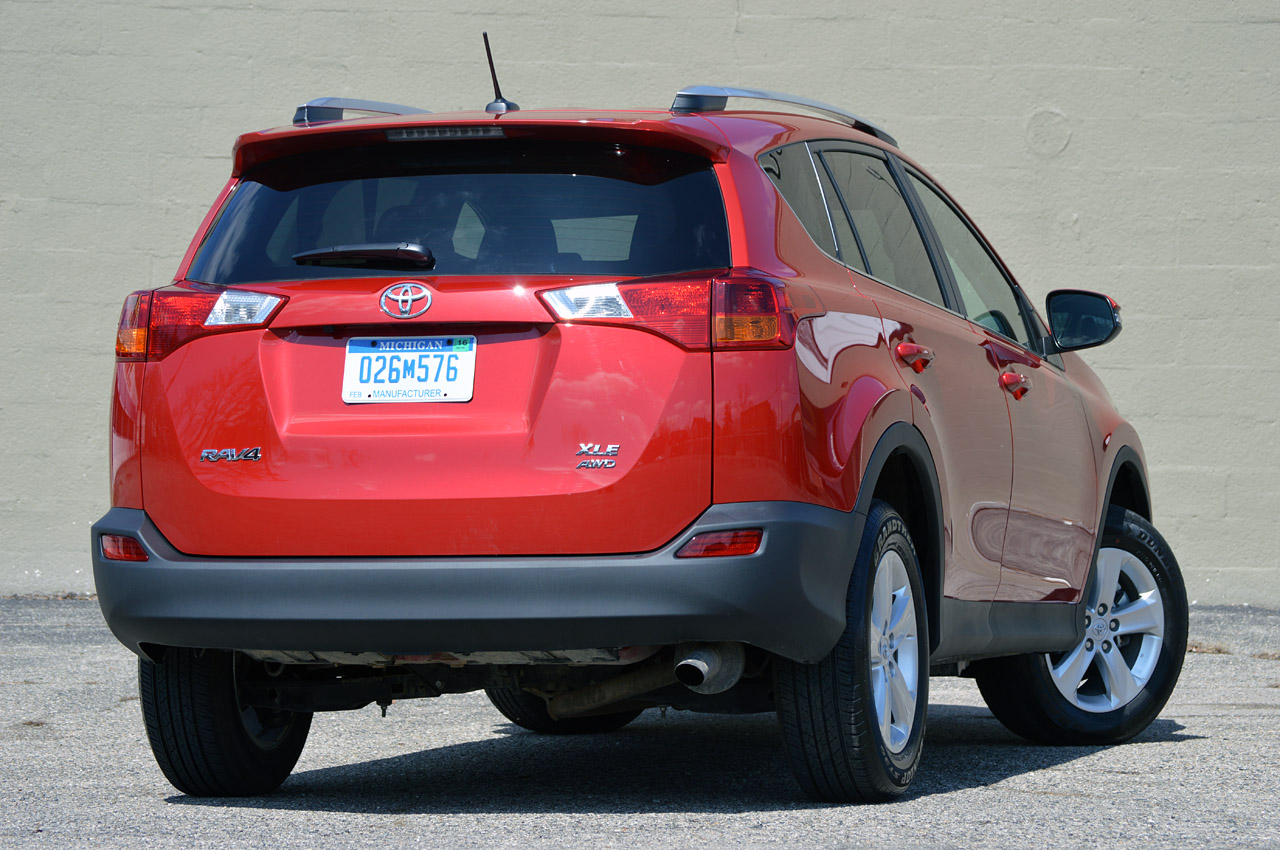Toyota RAV-4: (87, 95, 1207, 804)
